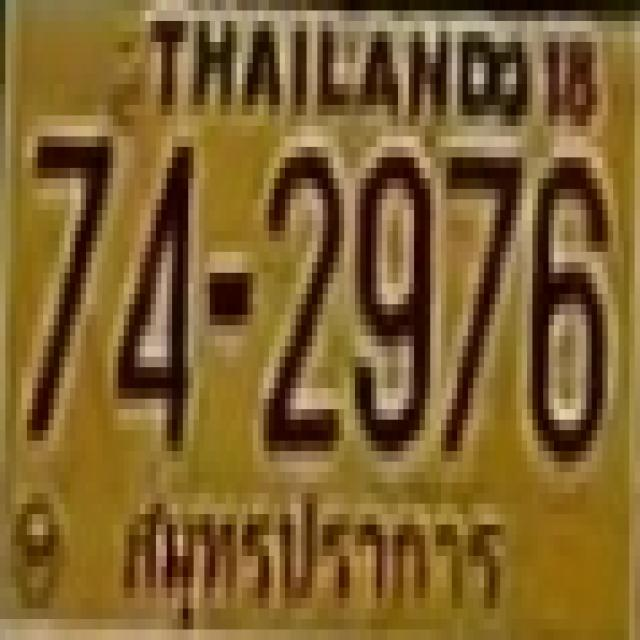2: (263, 142, 339, 446)
4: (113, 136, 188, 441)
6: (527, 147, 602, 451)
7: (27, 126, 107, 430), (441, 147, 516, 451)
9: (352, 147, 428, 441)
SPK: (112, 481, 513, 640)
